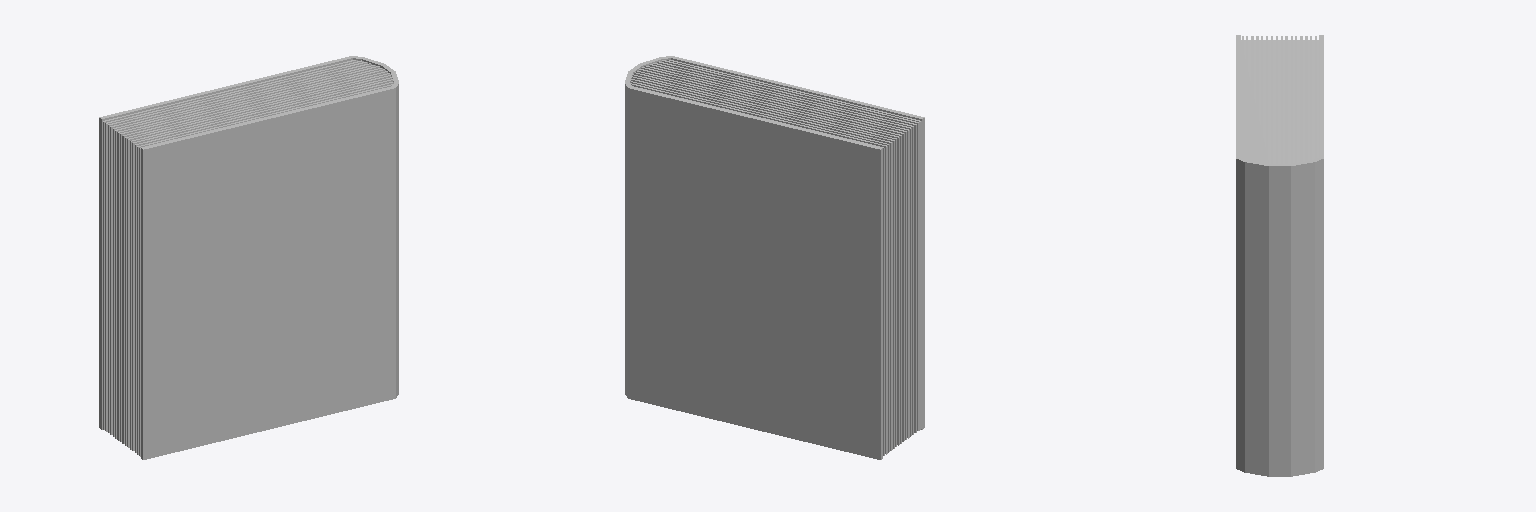
Rendered from book1.obj.
3 renders of one model, left to right at view 1: azimuth 30°, elevation 25°; view 2: azimuth 150°, elevation 25°; view 3: azimuth 270°, elevation 25°, orthographic.
Visible parts, largest first — view 1: room0_shelf.000_Plane.016; view 2: room0_shelf.000_Plane.016; view 3: room0_shelf.000_Plane.016.
Boxes of the visible parts, <box> form: room0_shelf.000_Plane.016: <box>99,56,398,459</box>; room0_shelf.000_Plane.016: <box>625,56,924,459</box>; room0_shelf.000_Plane.016: <box>1236,35,1323,476</box>.
Bounding box in the file's own units: 0.244 × 0.2689 × 0.0693.